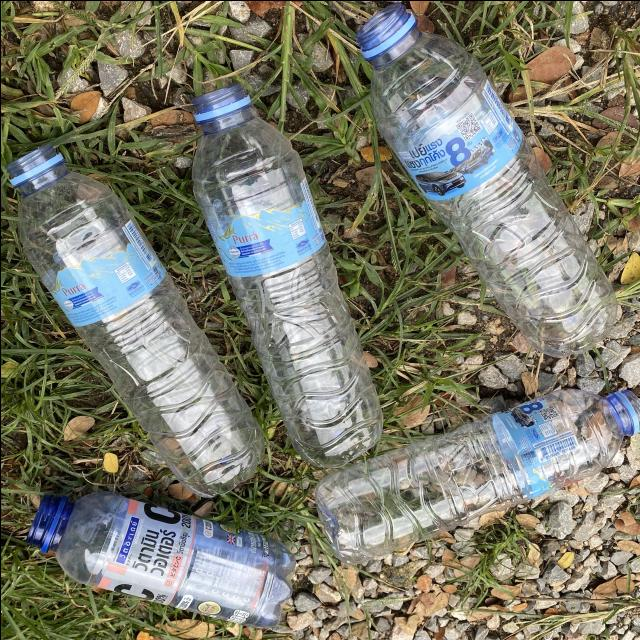plastik: (356, 4, 616, 356), (6, 143, 263, 495), (192, 83, 381, 466), (315, 388, 640, 563), (26, 491, 294, 627)
